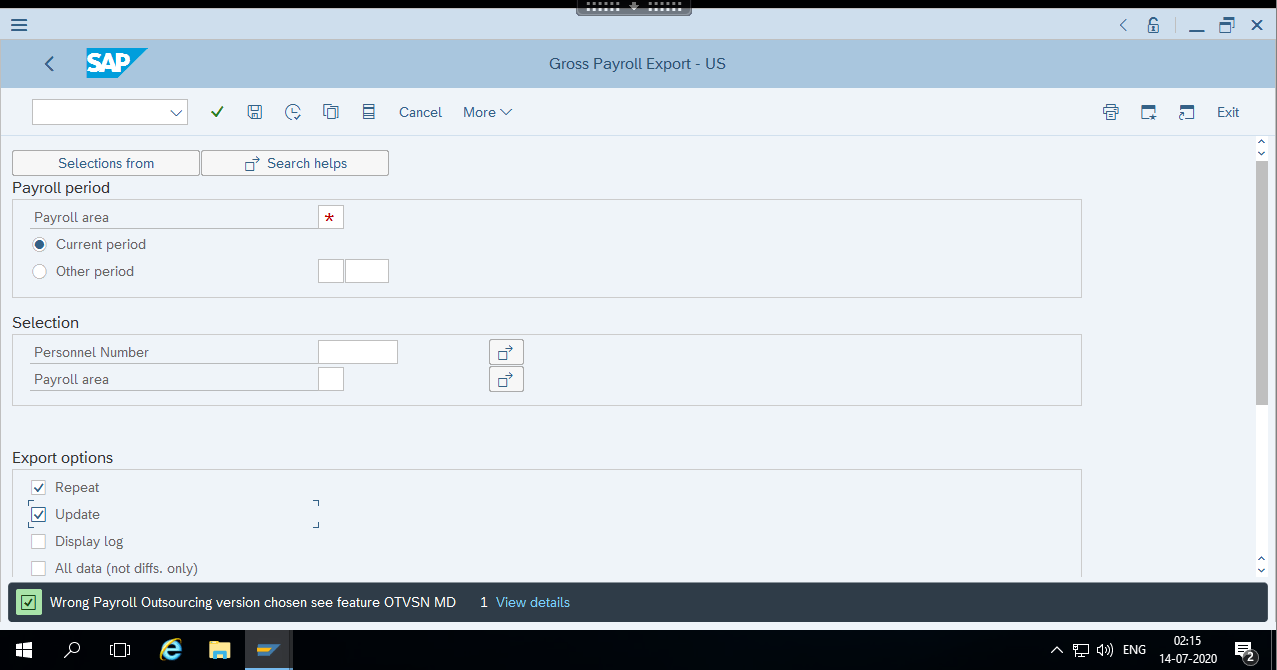BUTTON: (202, 150, 392, 177), (11, 148, 201, 175)
CHECKBOX_CHECKED: (30, 480, 46, 495), (31, 506, 46, 521)
CHECKBOX_UNCHECKED: (30, 560, 46, 576), (31, 533, 46, 549)
COMBOBOX: (30, 97, 189, 126)
DROPDOWN_HANDLE: (159, 96, 189, 126), (495, 98, 516, 135)
IMAGEBUTTON: (26, 43, 65, 83), (489, 364, 523, 390), (489, 340, 523, 366), (202, 96, 231, 125), (316, 97, 344, 125), (278, 98, 306, 125), (241, 97, 268, 125), (1173, 99, 1199, 126), (356, 98, 382, 125), (1098, 99, 1124, 125), (1135, 99, 1161, 125), (1217, 15, 1236, 34), (1187, 18, 1205, 36), (1144, 16, 1161, 32), (1115, 16, 1131, 32)
RADIOBUTTON_CLICKED: (32, 238, 47, 252)
RADIOBUTTON_UNCLICKED: (31, 262, 47, 279)
SCROLLBAR_VERTICAL: (1253, 134, 1269, 577)
SCROLLBAR_VERTICAL_BAR: (1255, 161, 1268, 405)
SCROLLBAR_VERTICAL_HANDLE: (1253, 134, 1269, 162), (1255, 550, 1269, 577)
TEXTBOX: (316, 338, 397, 364), (346, 258, 389, 282), (317, 258, 344, 283), (319, 367, 344, 391)
